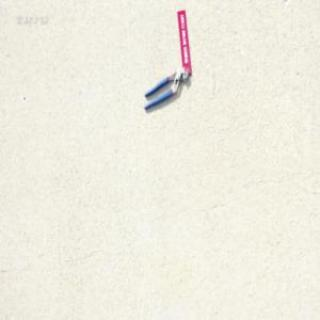LuggageTagtrack_idkeyframe: (177, 8, 191, 77)
Pliertrack_idkeyframe: (142, 67, 187, 111)
